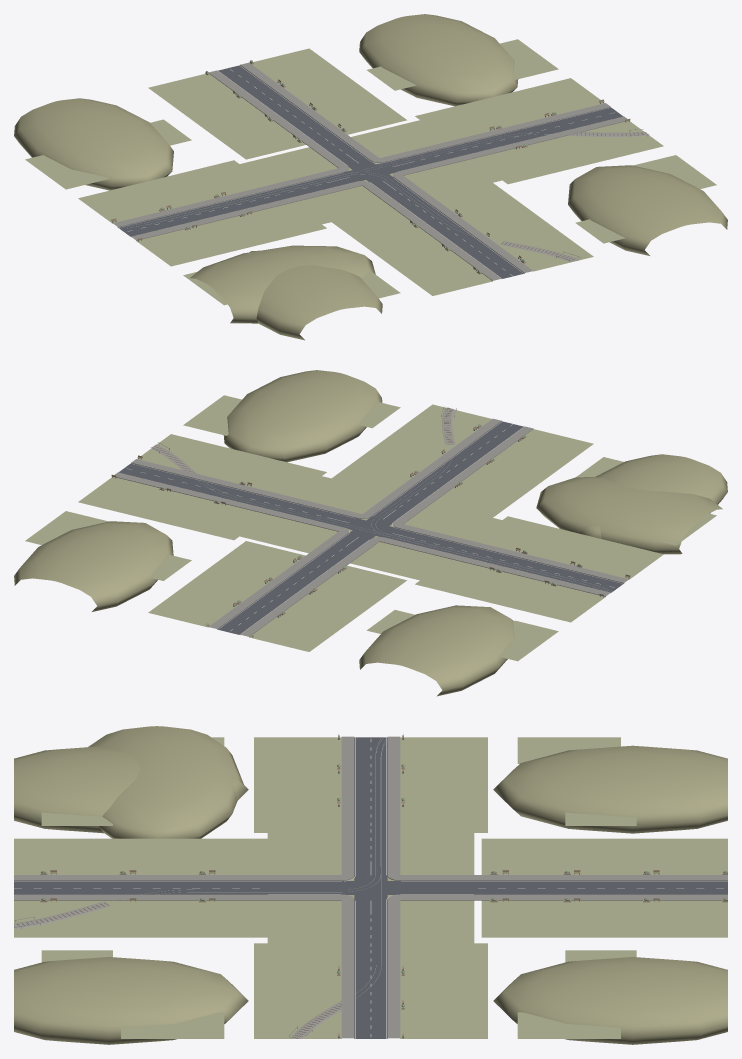
The picture shows the model from 3 angles, top to bottom: view 1: azimuth 30°, elevation 25°; view 2: azimuth 150°, elevation 25°; view 3: azimuth 270°, elevation 25°; orthographic projection. The views are drawn at different scales.
Parts seen in each view (by area): view 1: static; view 2: static; view 3: static.
Part boxes in pixels (x1=…): static: x1=14, y1=14, x2=727, y2=340; static: x1=14, y1=370, x2=727, y2=696; static: x1=14, y1=726, x2=727, y2=1044.
Size of what is drawn, in the model's own units: 180 by 14.08 by 180.
